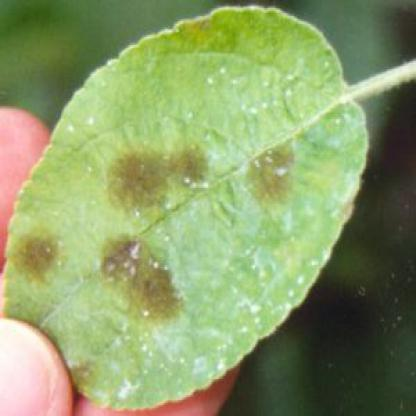apple scab leaf: (7, 6, 385, 398)
